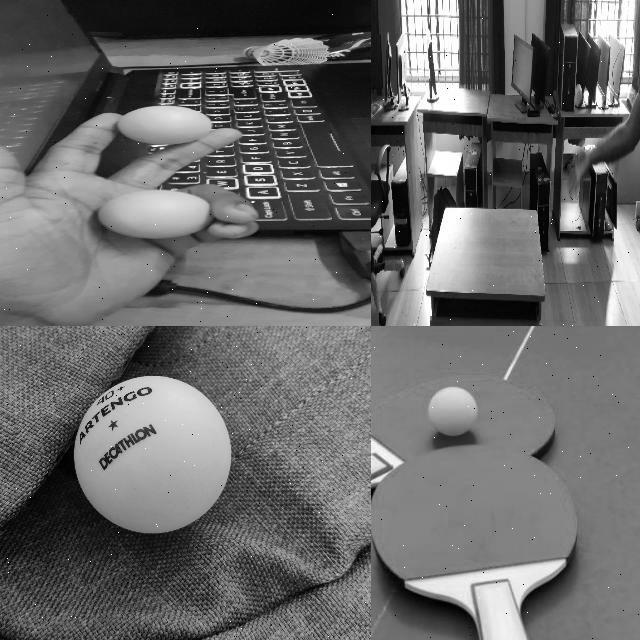ping-pong-ball: (72, 376, 232, 530), (98, 190, 212, 240), (116, 106, 208, 143), (434, 384, 476, 438), (576, 84, 582, 106)
